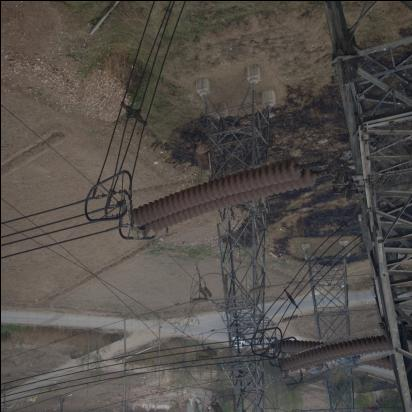insulator: (125, 161, 333, 231), (278, 331, 394, 383)
